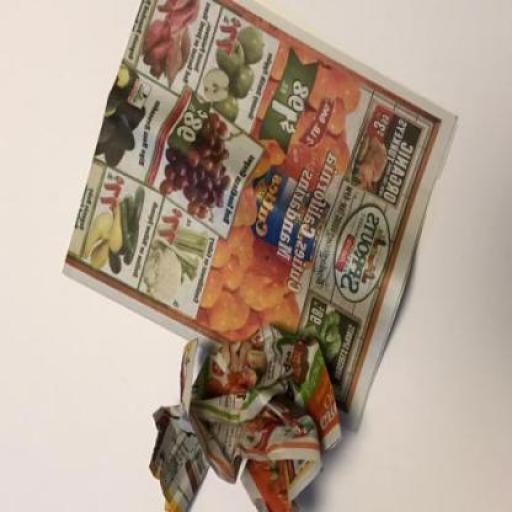paper: (61, 2, 457, 434), (150, 327, 344, 511)
